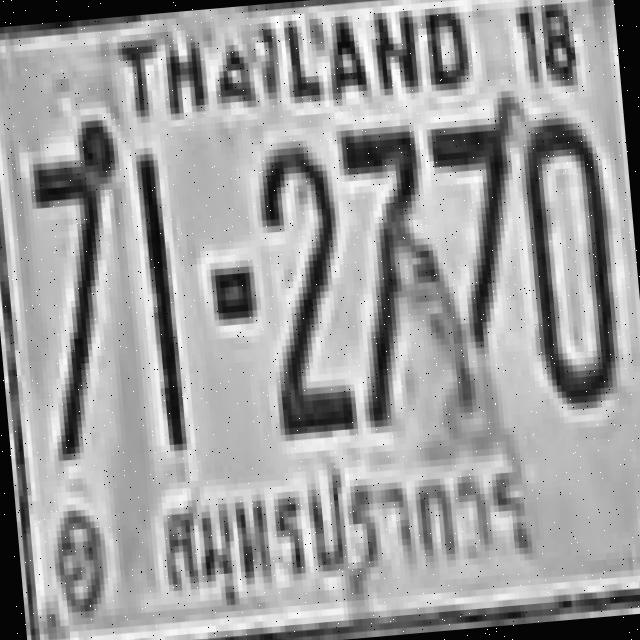0: (516, 114, 624, 411)
1: (132, 150, 184, 448)
2: (252, 134, 356, 430)
7: (28, 156, 135, 452), (338, 118, 440, 422), (422, 109, 530, 357)
Ratchaburi: (146, 438, 554, 613)
